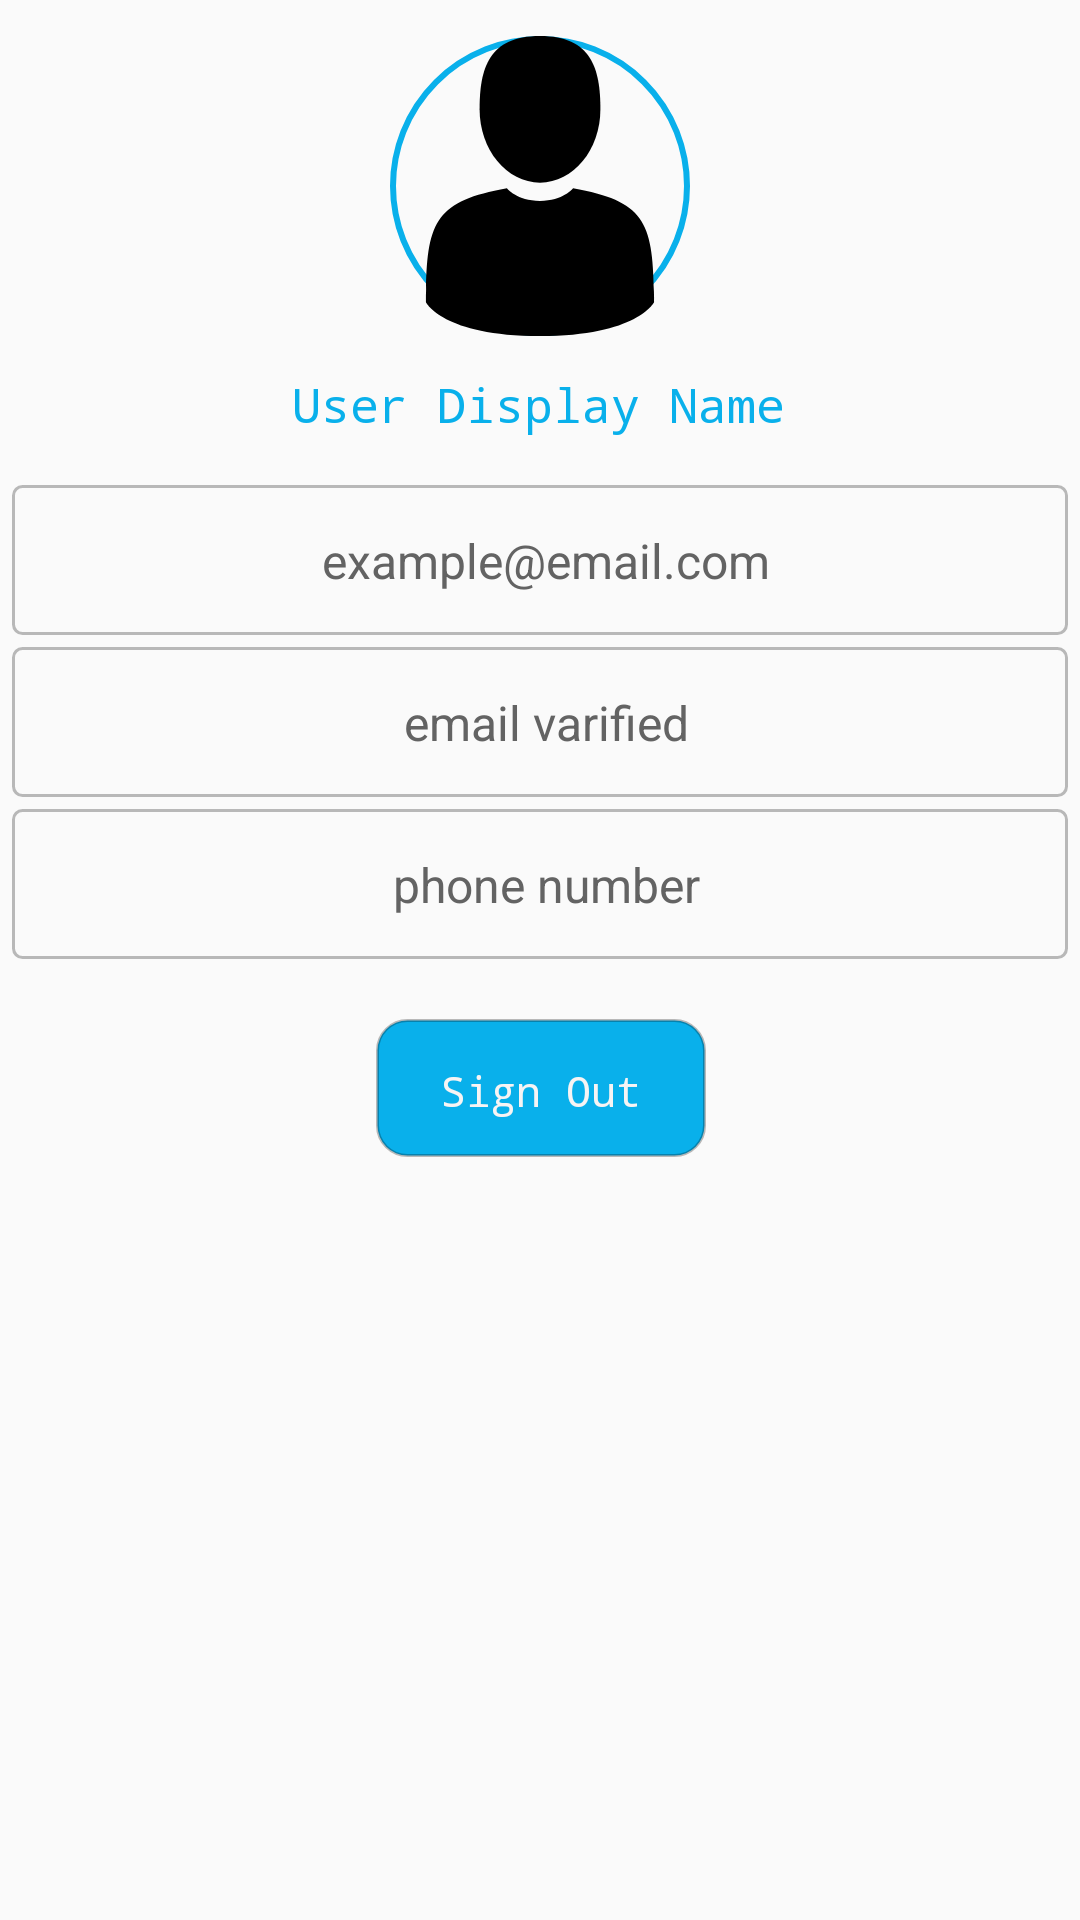

Where icons sit on this 1080w x 1920h app screen, as (x1, y1, x2, y2):
profile: (390, 36, 690, 336)
